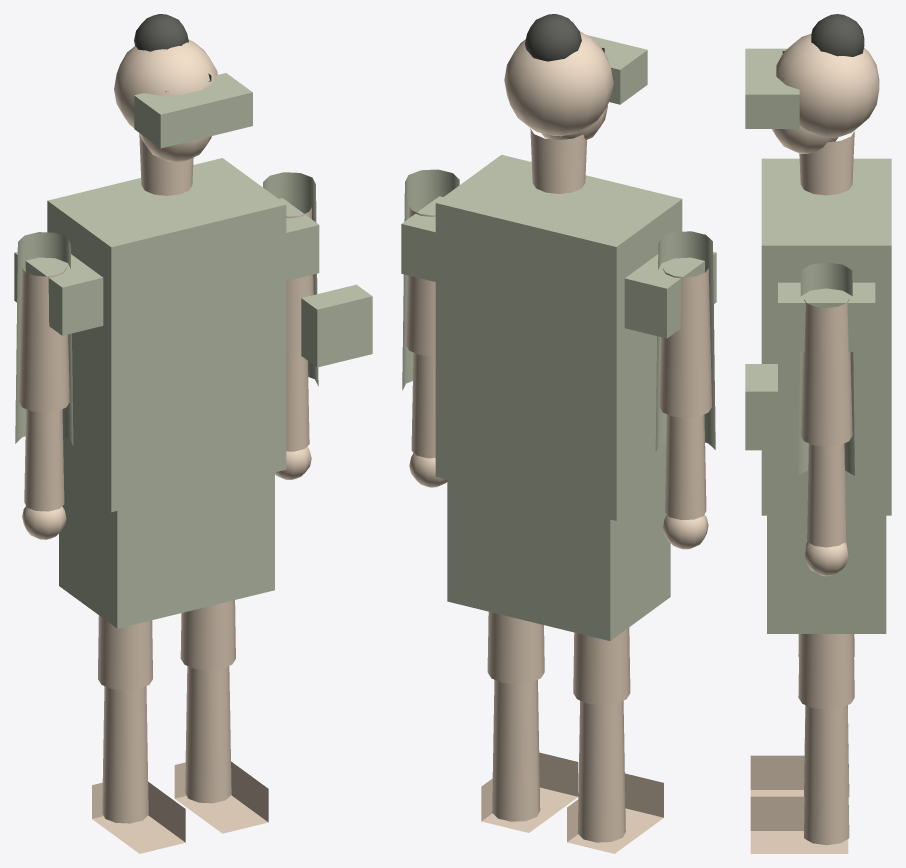
The model's file is body.glb.
3 views of the same model, side by side, from view 1: azimuth 30°, elevation 25°; view 2: azimuth 150°, elevation 25°; view 3: azimuth 270°, elevation 25° (orthographic). The views are drawn at different scales.
Visible parts, largest first — view 1: Metal, Skin, Hair; view 2: Metal, Skin, Hair; view 3: Metal, Skin, Hair.
Part boxes in pixels (x1=…): Metal: x1=14, y1=73, x2=372, y2=628; Skin: x1=19, y1=40, x2=313, y2=853; Hair: x1=134, y1=14, x2=211, y2=92; Metal: x1=401, y1=35, x2=716, y2=640; Skin: x1=406, y1=31, x2=711, y2=853; Hair: x1=525, y1=14, x2=604, y2=61; Metal: x1=745, y1=48, x2=891, y2=633; Skin: x1=750, y1=33, x2=879, y2=853; Hair: x1=782, y1=14, x2=864, y2=79.
Size of the model in its own units: 0.6813 by 1.64 by 0.27.
